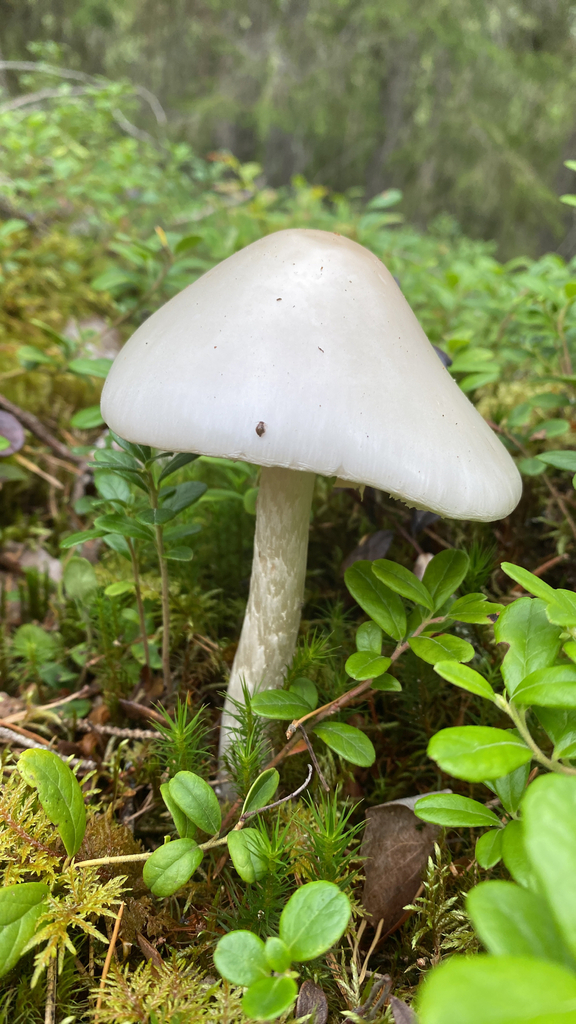Cap: (101, 229, 521, 520)
Stem: (219, 468, 314, 759)
